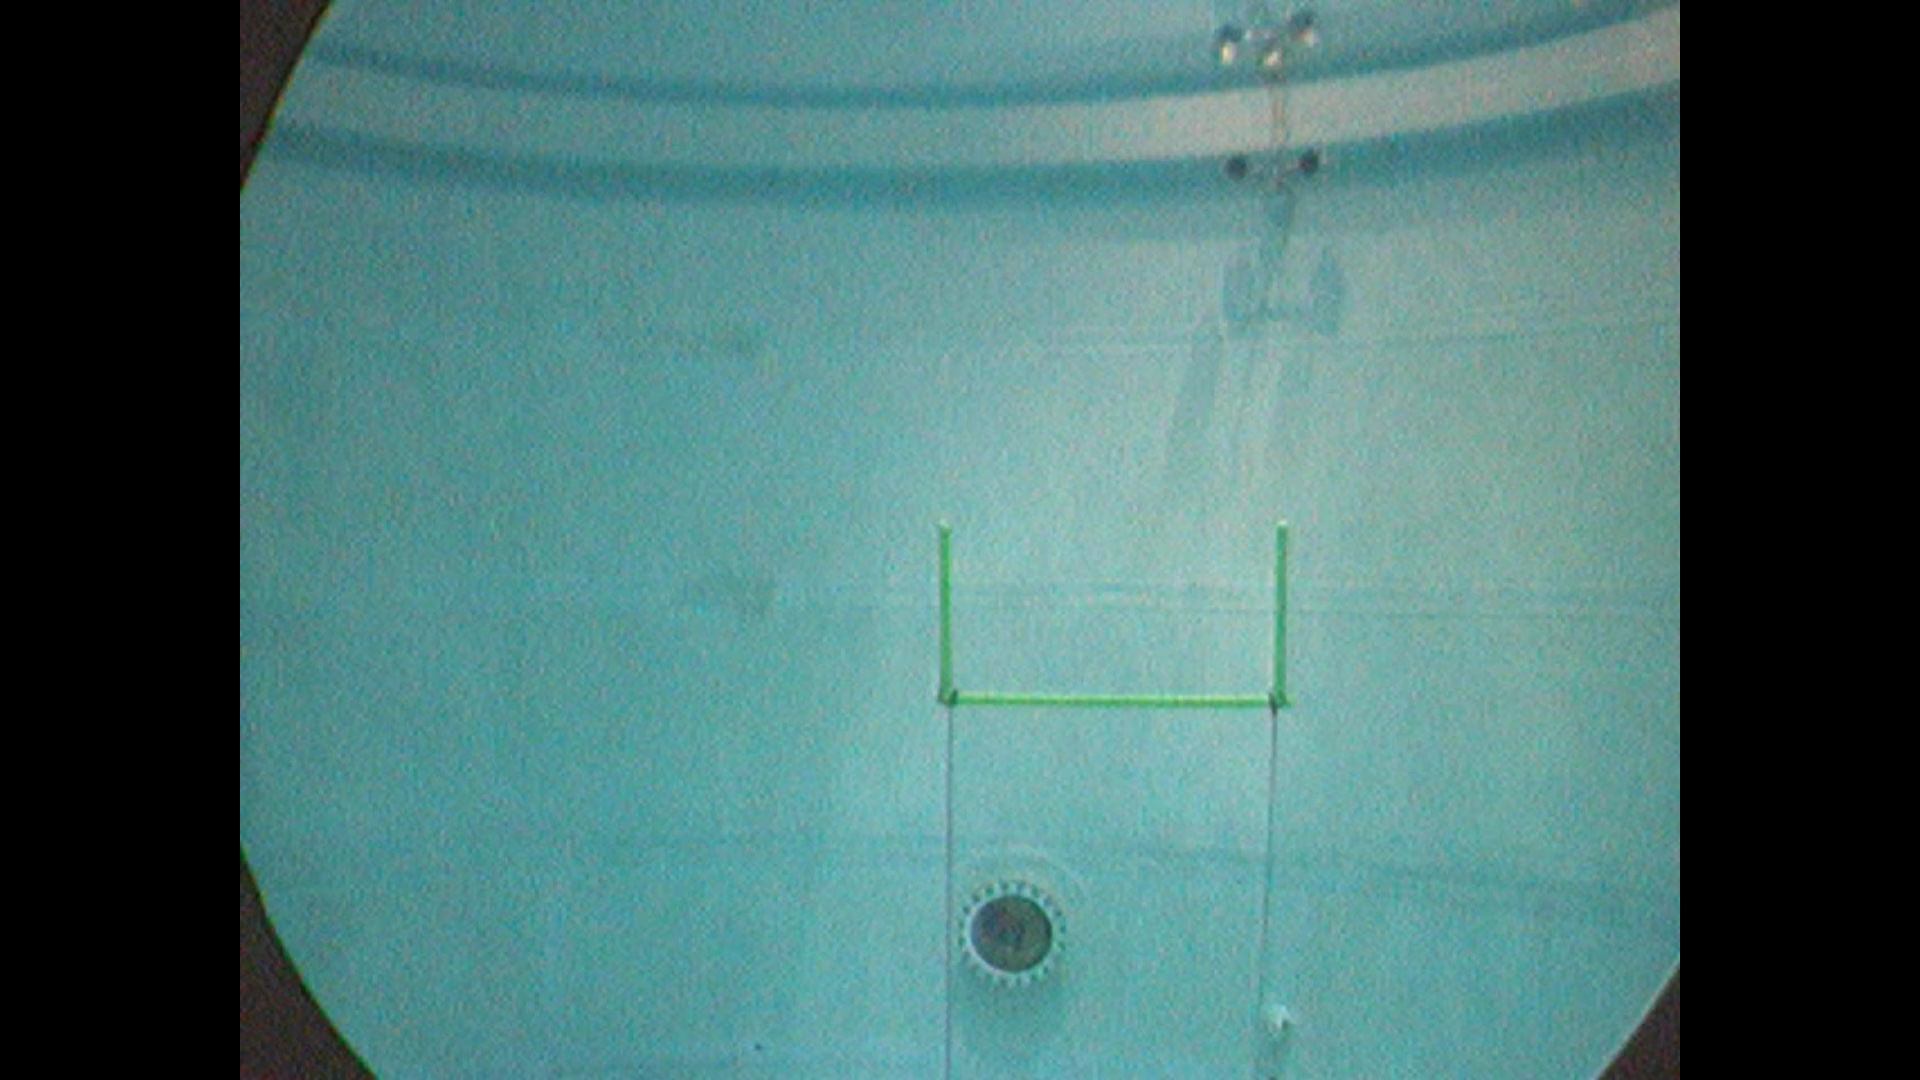gate: (928, 508, 1298, 723)
